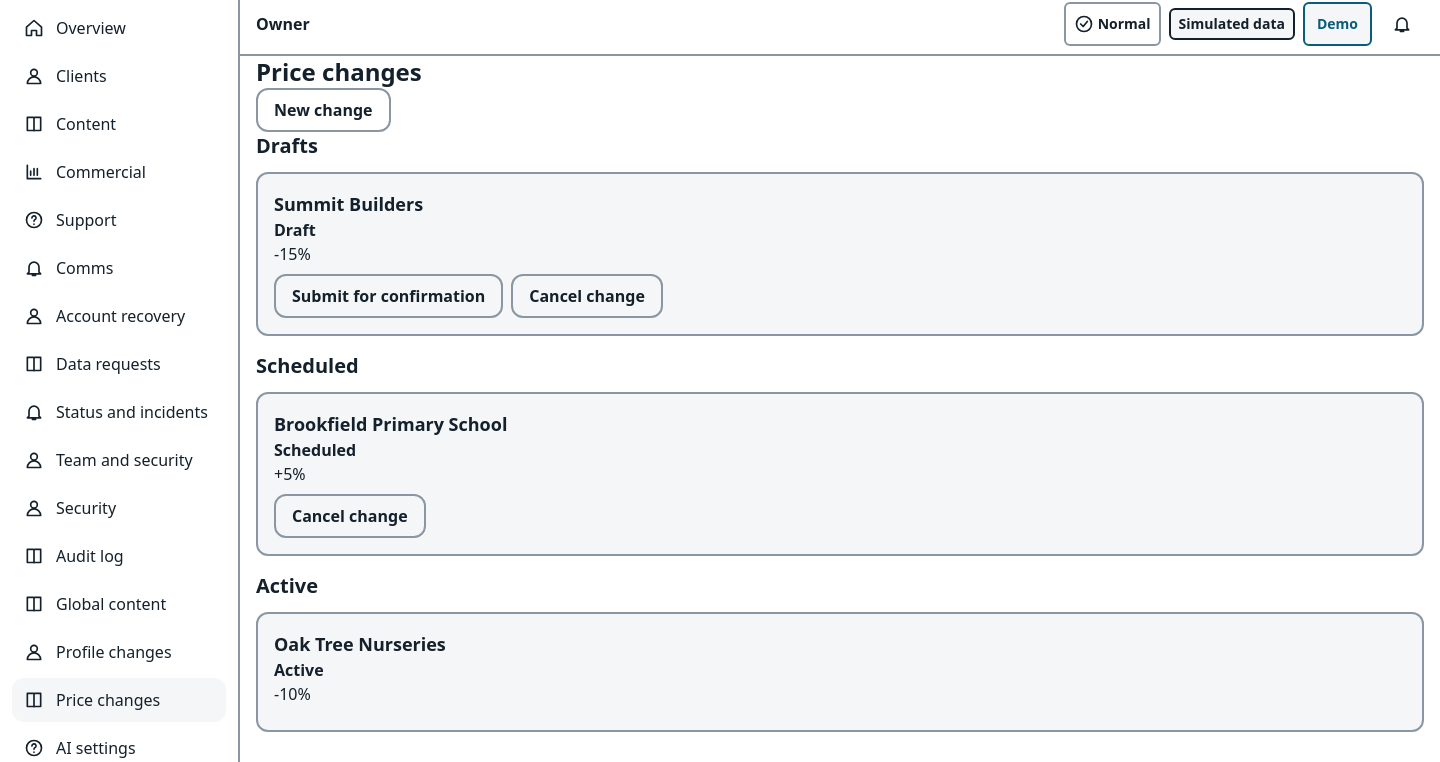
Scenario: P25 Price changes: new change and preview › previews one row per client for All clients
The width and height of the screenshot is (1440, 762).
expect the heading "Price changes" is shown: met, box 256,56 -> 422,88
Click the button "New change".
click(323, 110)  # box 256,88 -> 390,132
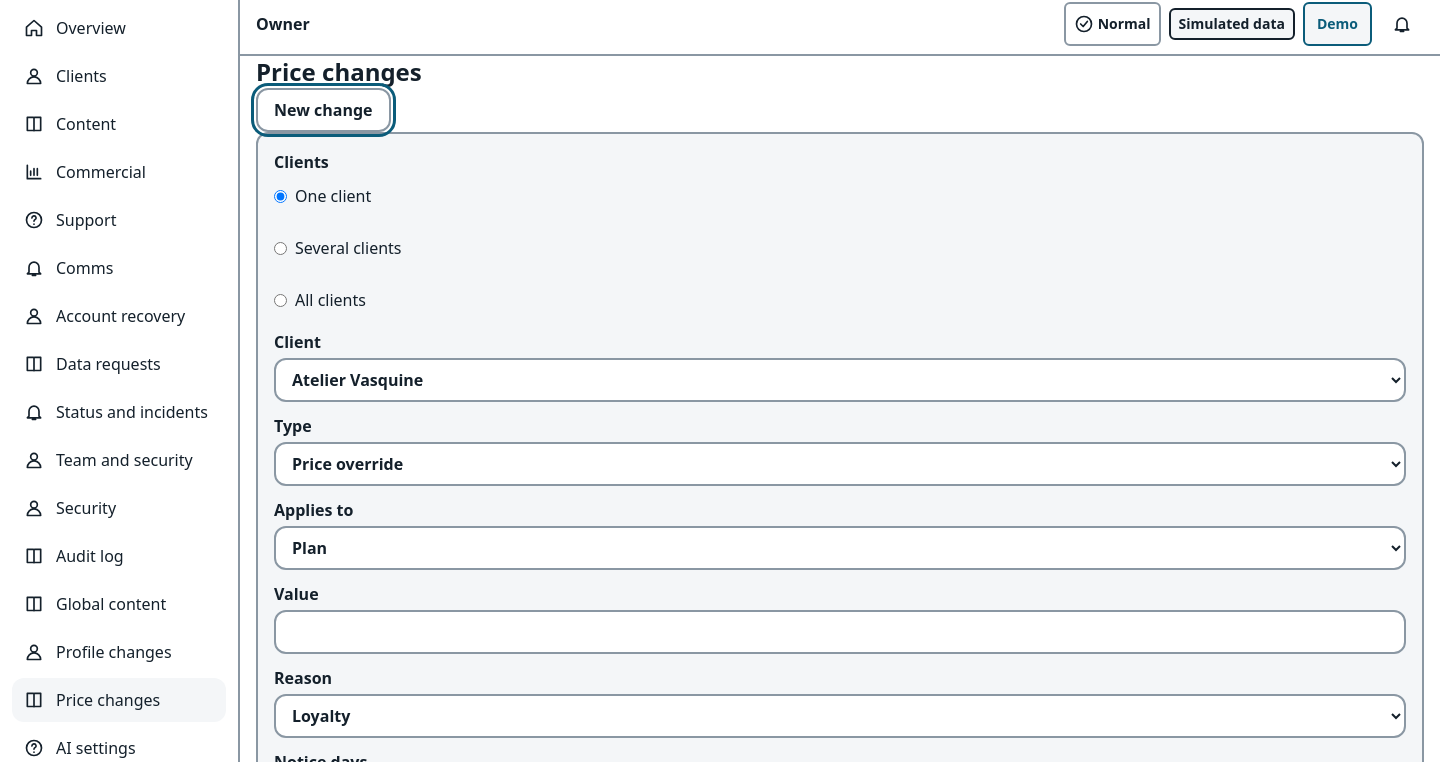
Click the radio button labelled "All clients".
click(280, 300)  # box 274,294 -> 287,306
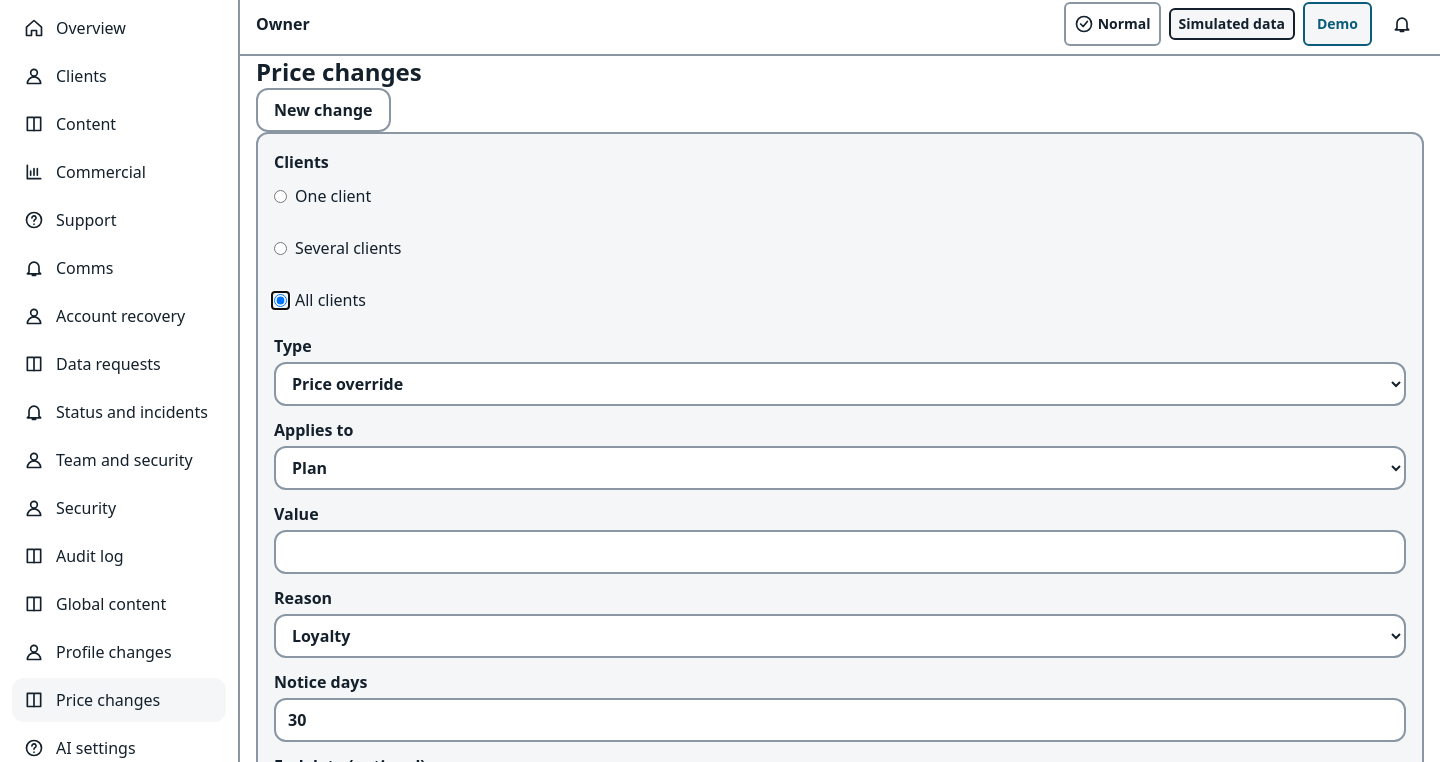
Select "Percentage discount" in the dropdown labelled "Type" at [840, 384], box 274,362 -> 1406,406
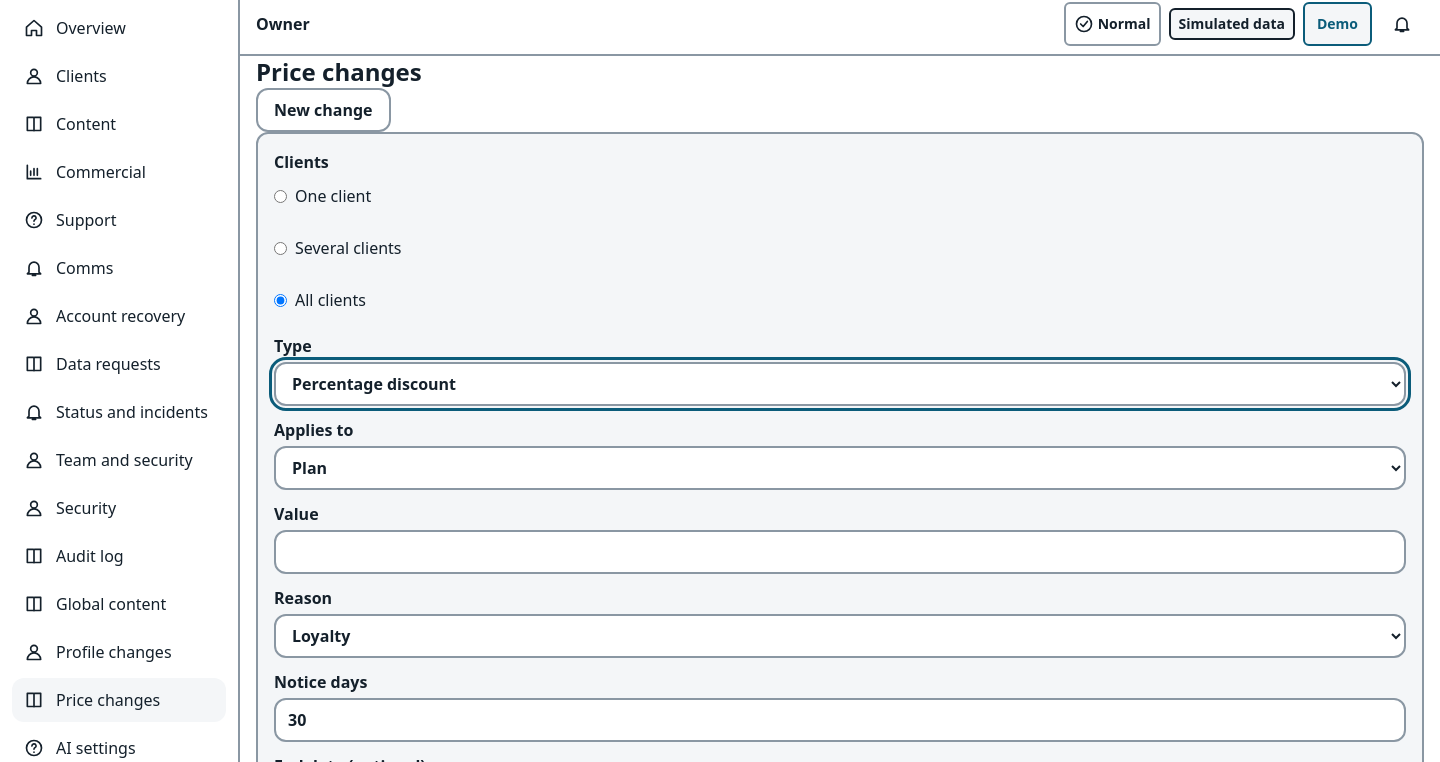
Type "5" into the number field labelled "Value".
click(840, 552); type("5")  # box 274,530 -> 1406,574
(page scrolled)
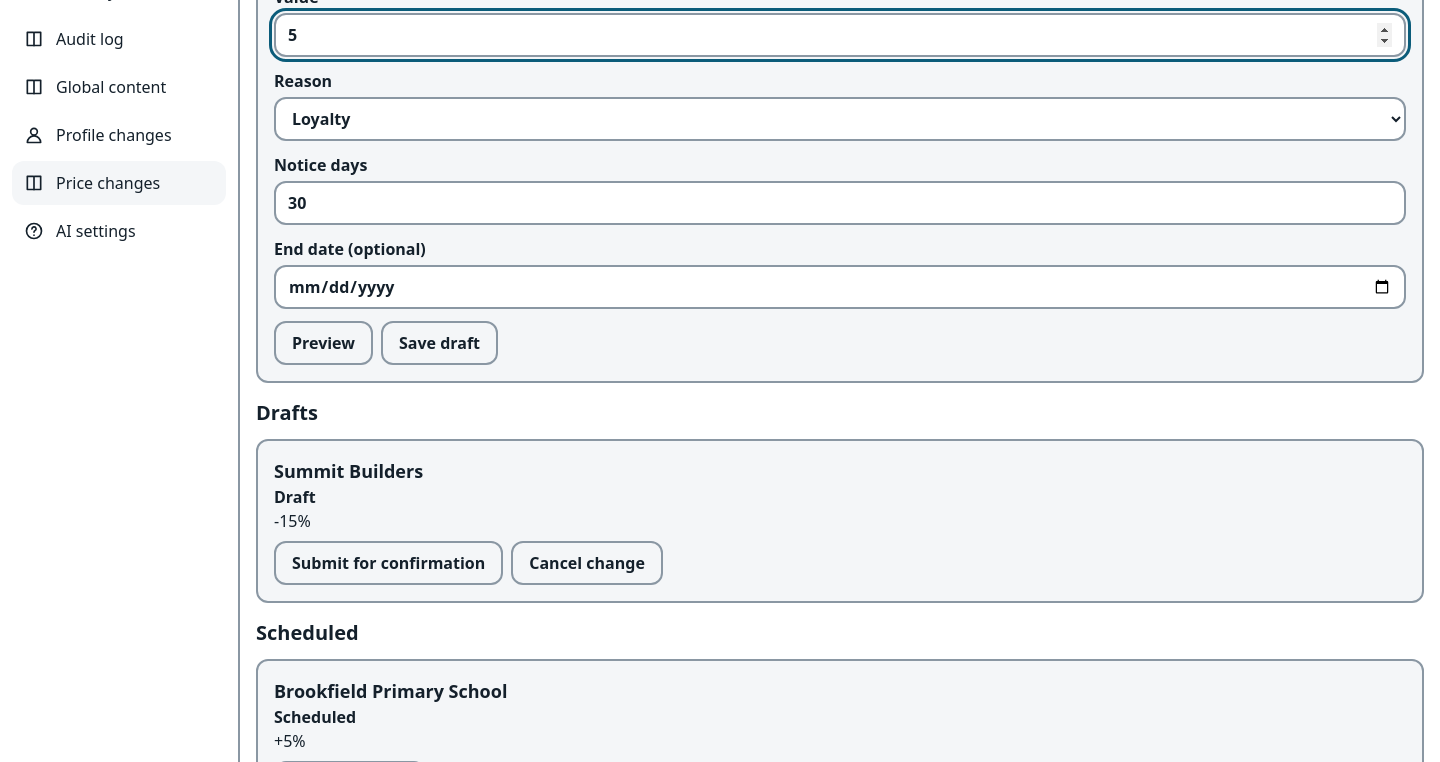
Click the button "Preview".
click(324, 343)  # box 274,321 -> 373,365
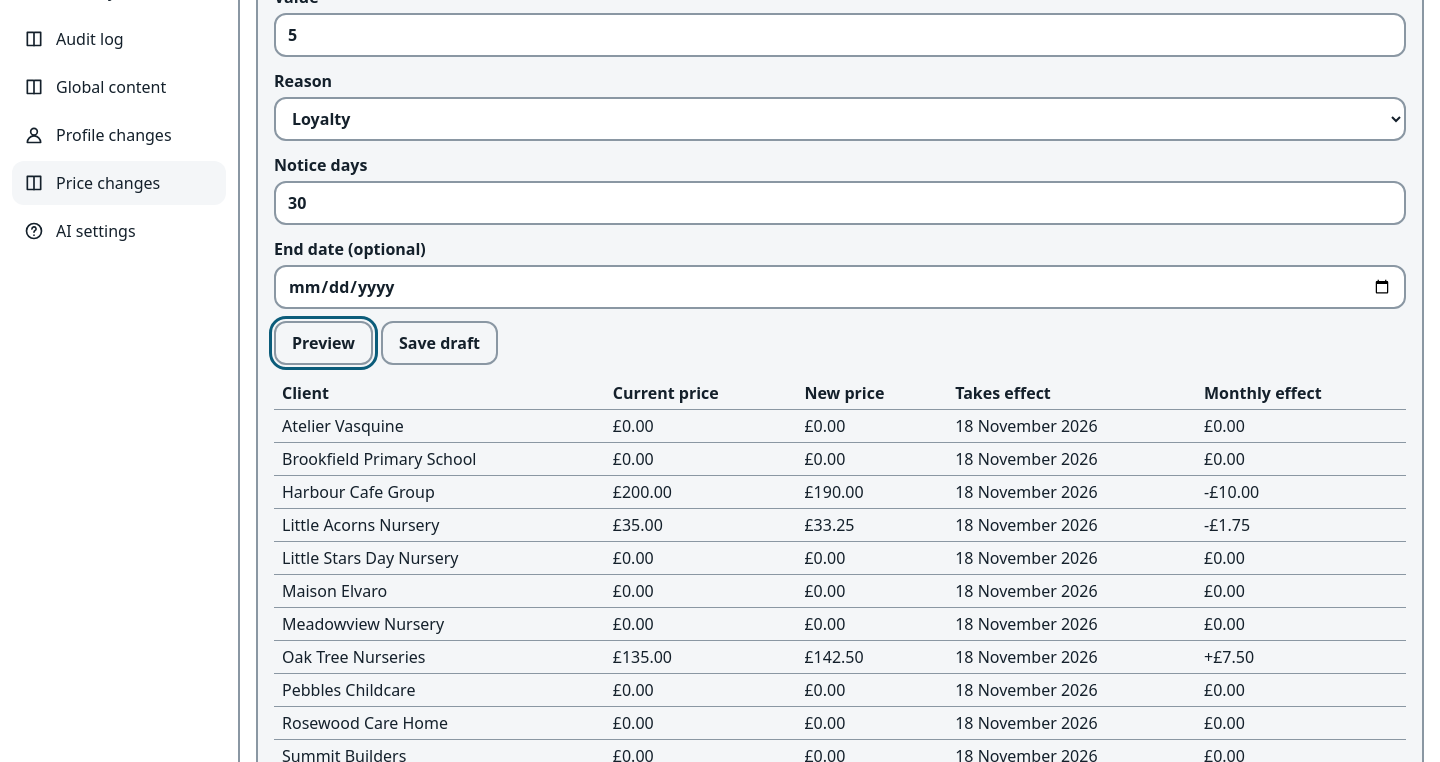
expect the number of rows with test id "preview-row" is 13: met
